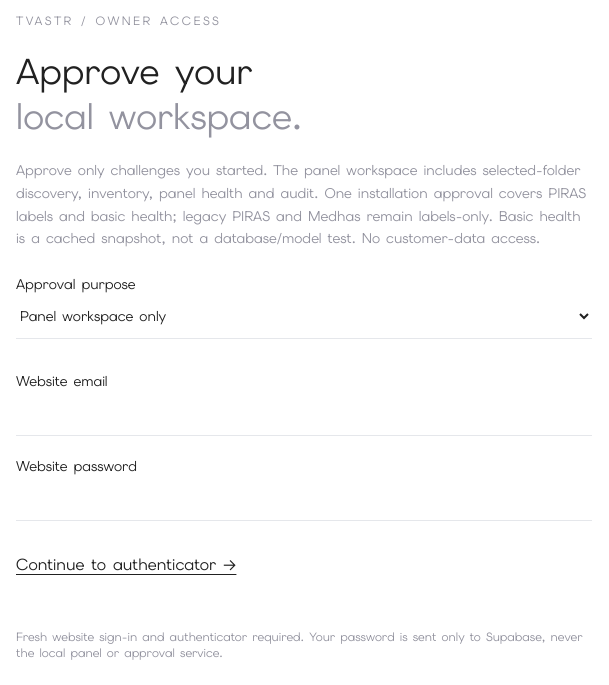
isolated owner approval › ends the isolated sign-in after a wrong authenticator code
The width and height of the screenshot is (609, 685).
Type "owner@example.invalid" into the field labelled "Website email".
click(304, 414); type("owner@example.invalid")  # box [16,391,592,436]
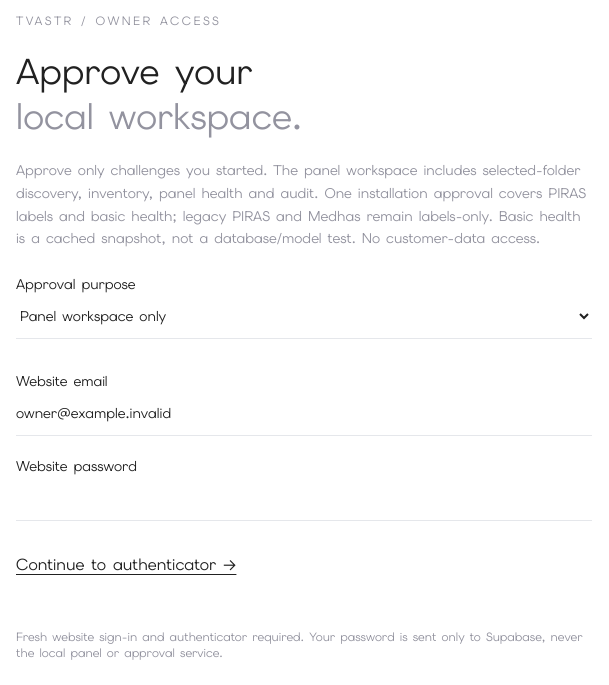
Type "synthetic-password-not-real" into the password field labelled "Website password".
click(304, 498); type("synthetic-password-not-real")  # box [16,476,592,521]
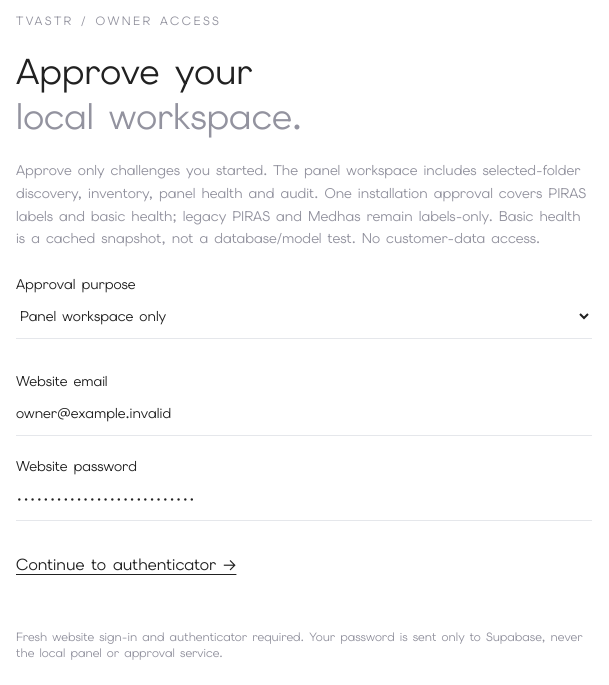
Click the button "Continue to authenticator →".
click(126, 565)  # box [16,541,236,589]
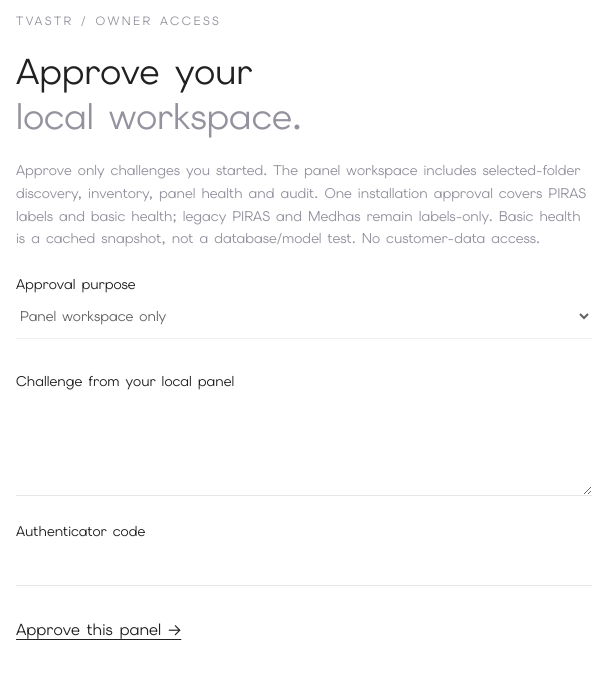
Expected: the field labelled "Authenticator code" is shown, [16,541,592,586]
Type "synthetic-challenge" into the text box labelled "Challenge from your local panel".
click(304, 444); type("synthetic-challenge")  # box [16,391,592,496]
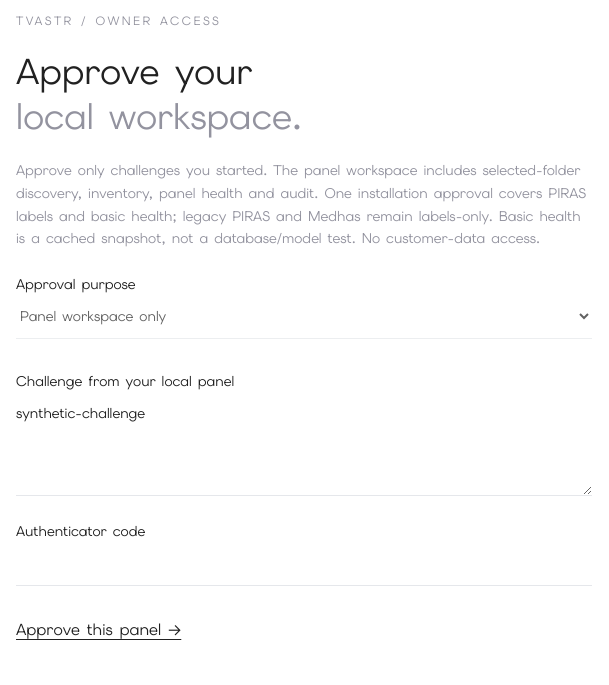
Type "123456" into the field labelled "Authenticator code".
click(304, 564); type("123456")  # box [16,541,592,586]
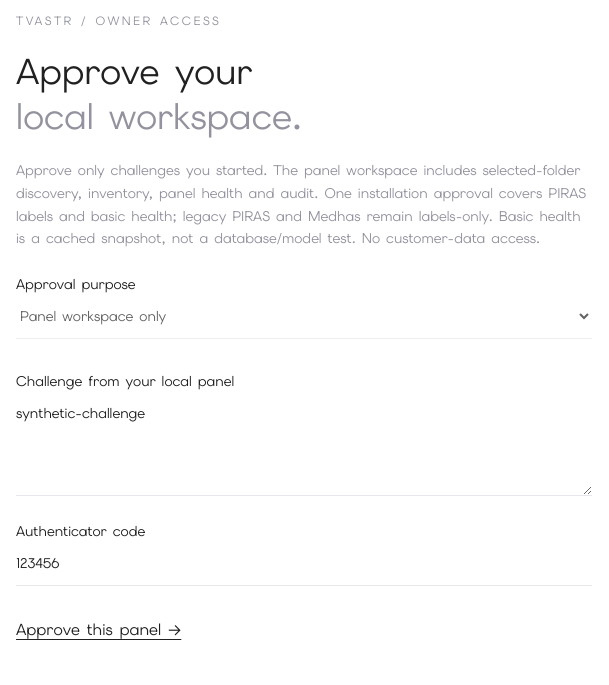
Click the button "Approve this panel →".
click(99, 630)  # box [16,606,181,654]
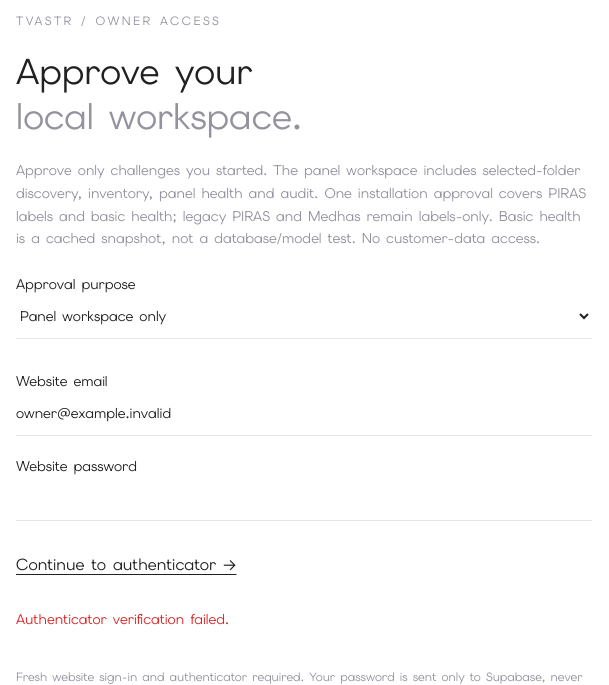
Expected: the message shows "Authenticator verification failed", [16,610,229,628]
Expected: the password field labelled "Website password" is empty, [16,476,592,521]
